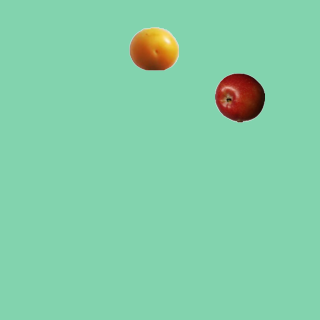Apple Braeburn: (214, 72, 264, 122)
Cherry Wax Yellow: (128, 23, 178, 73)
